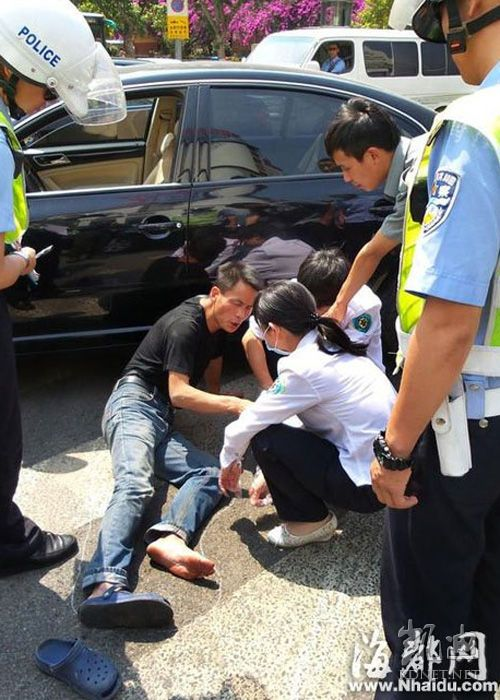fall: (59, 248, 271, 655)
